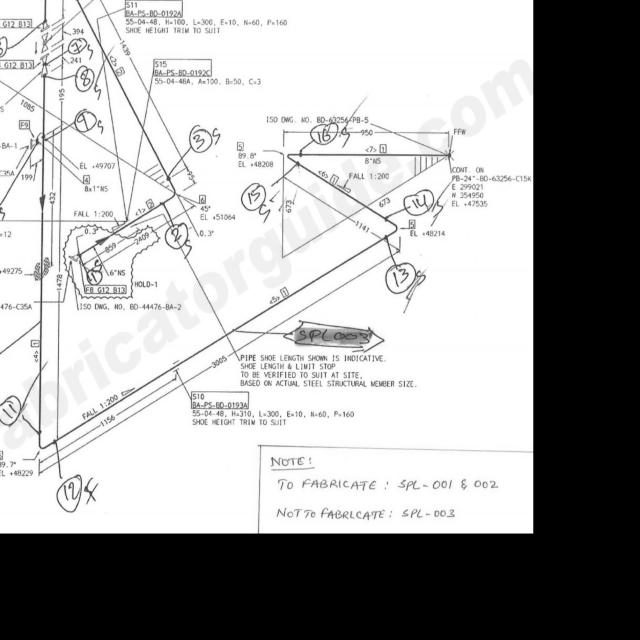Item number: (151, 57, 213, 77), (192, 391, 250, 410), (124, 2, 183, 18), (81, 284, 129, 298), (70, 209, 115, 221), (414, 154, 436, 176), (1, 18, 34, 29), (112, 53, 122, 78), (31, 337, 39, 365), (278, 283, 290, 300), (18, 118, 30, 131), (116, 64, 124, 79), (198, 193, 207, 206), (236, 140, 244, 153), (380, 143, 389, 154)
Measrement: (47, 373, 181, 456), (91, 211, 166, 264), (101, 2, 143, 83), (1, 81, 42, 116), (262, 113, 345, 124), (236, 151, 275, 169), (346, 171, 392, 184), (56, 252, 62, 302)
Pipeline: (101, 203, 400, 411)
Symbol: (381, 221, 403, 259), (39, 50, 64, 79), (382, 212, 404, 237), (29, 128, 49, 150), (283, 151, 303, 173)
Weld number: (382, 260, 419, 298), (53, 472, 84, 516), (399, 186, 435, 219), (238, 179, 268, 213), (163, 221, 193, 252), (187, 121, 214, 155), (1, 391, 23, 427), (72, 107, 100, 134), (308, 125, 340, 147), (74, 63, 95, 93), (1, 206, 6, 222)
other: (237, 349, 403, 391), (450, 162, 530, 211), (192, 408, 360, 430), (123, 16, 291, 36), (80, 299, 186, 315), (263, 112, 351, 127), (1, 460, 36, 479), (409, 226, 447, 241), (198, 212, 237, 223), (1, 301, 35, 311), (85, 183, 110, 194)
